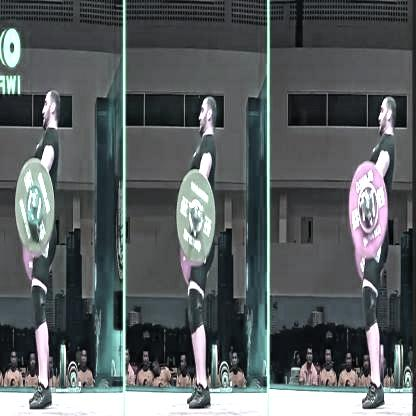Barbell: (28, 186, 36, 213), (361, 196, 371, 217), (190, 203, 199, 225)
